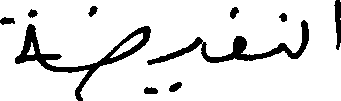ا: (333, 0, 340, 50)
ة: (1, 6, 60, 73)
ض: (87, 4, 150, 94)
ف: (229, 5, 245, 61)
ل: (299, 17, 309, 56)
ن: (277, 10, 287, 57)
ي: (148, 24, 206, 93)
